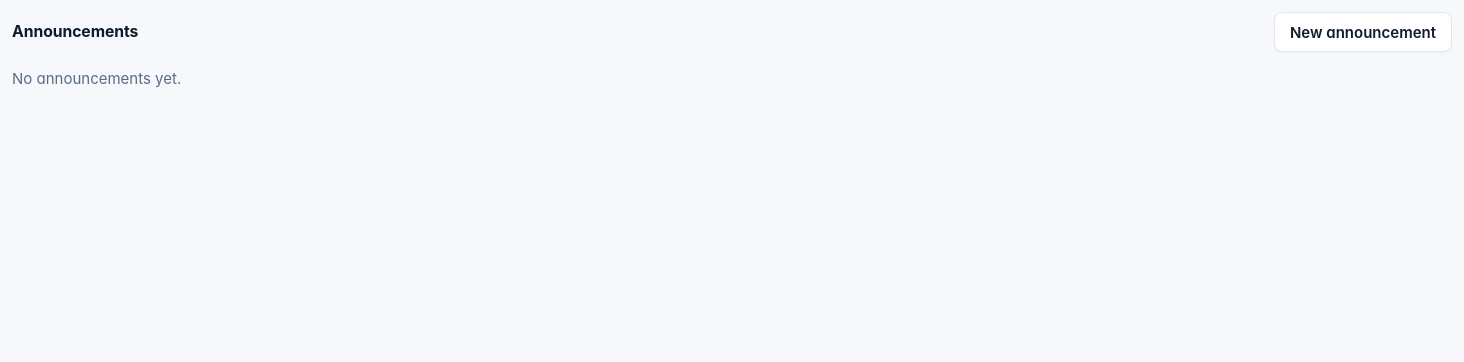
Test: announcements › publishes to a project and shows the feed
The width and height of the screenshot is (1464, 362).
Expected: the text "No announcements yet." is shown, [12,69,181,88]
Click the button "New announcement" at x=1363, y=32, box [1274,12,1452,52]
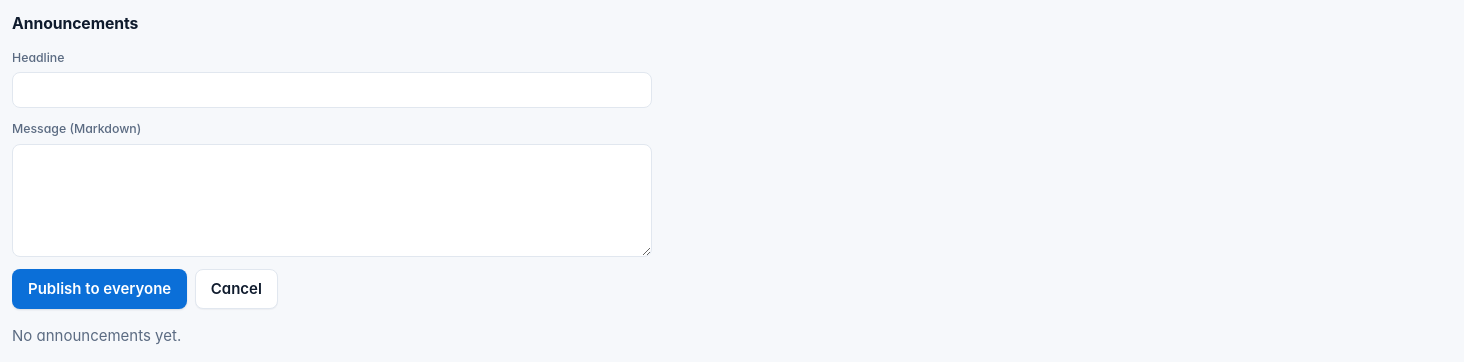
Type "Release Friday" into the field labelled "Headline" at x=332, y=90, box [12,72,652,108]
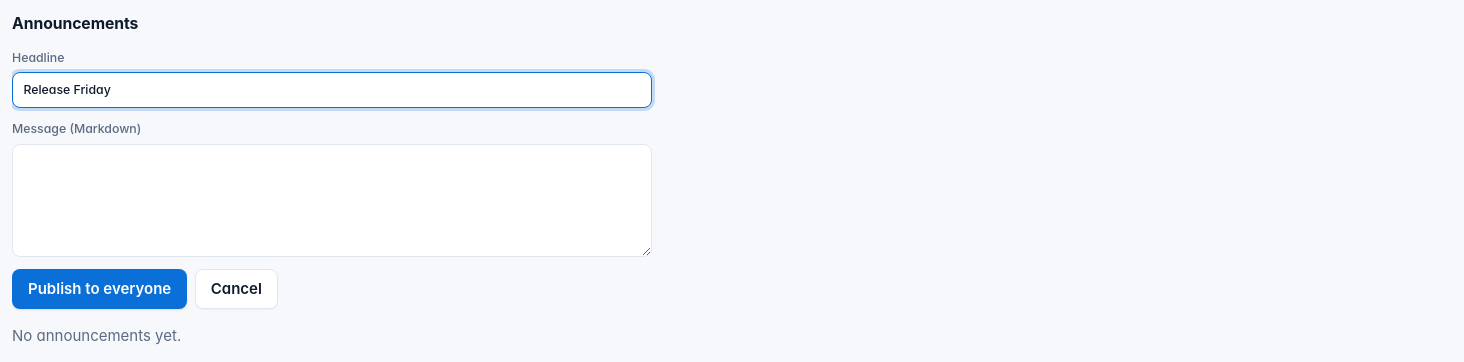
Type "Deploy at **16:00**" into the text box labelled "Message (Markdown)" at x=332, y=200, box [12,144,652,257]
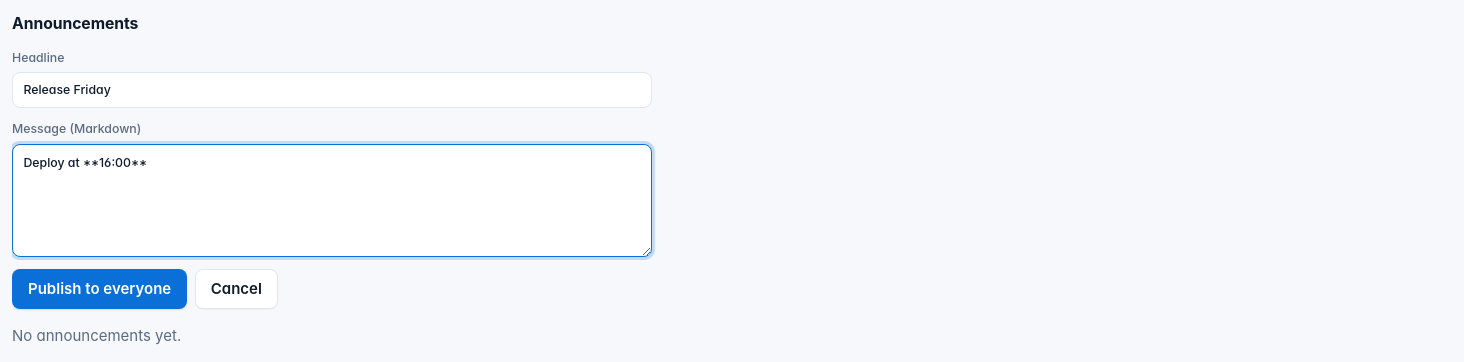
Click the button "Publish to everyone" at x=100, y=289, box [12,268,187,309]
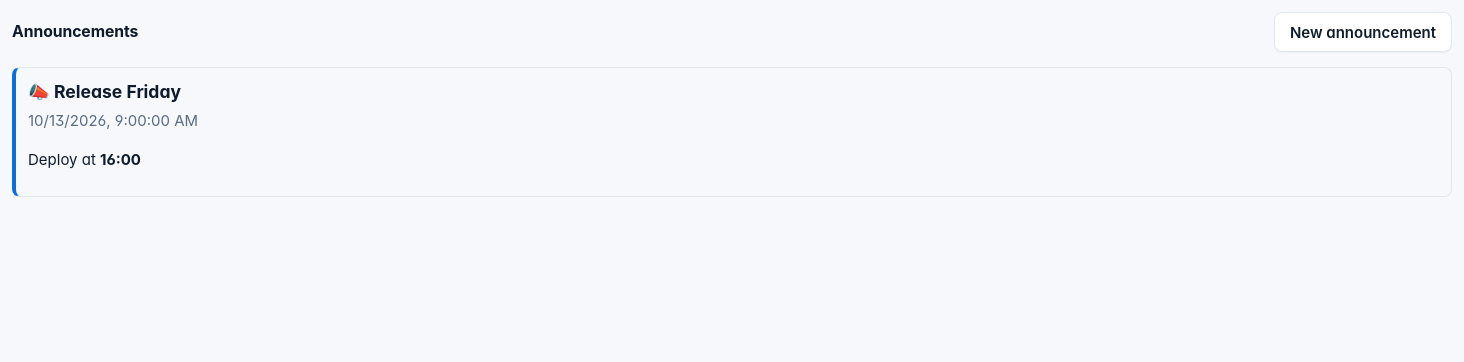
Result: the label labelled "Headline" is gone
